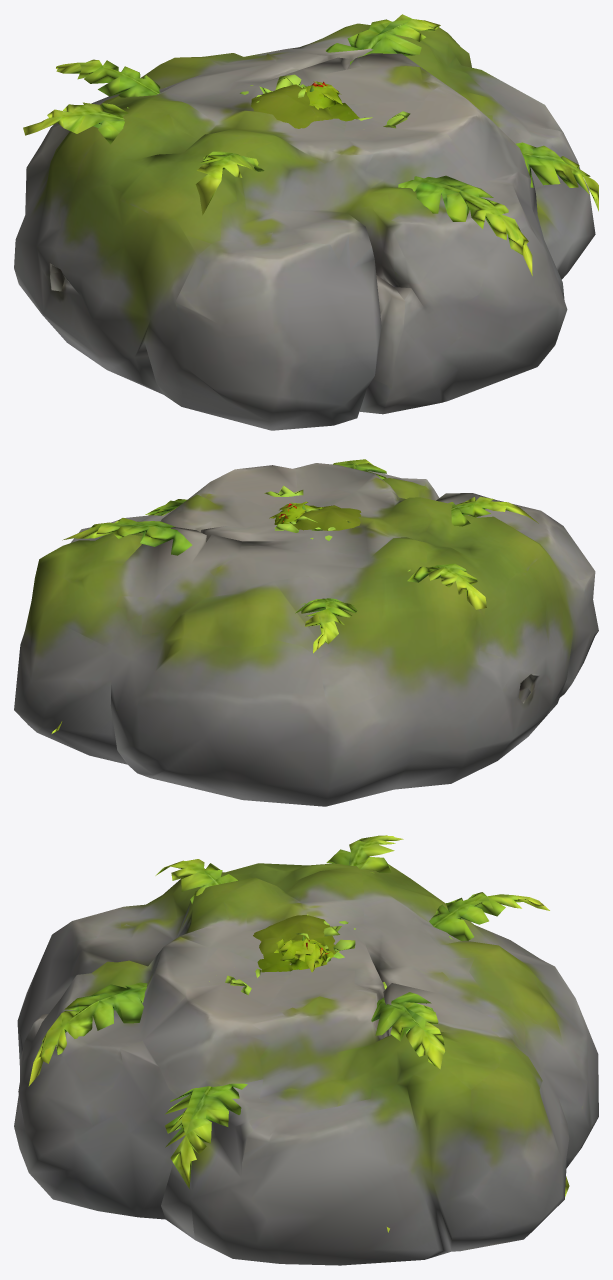
File: toon-scenery.glb
3 views of the same model, one above another, from view 1: azimuth 30°, elevation 25°; view 2: azimuth 150°, elevation 25°; view 3: azimuth 270°, elevation 25° (orthographic). The views are drawn at different scales.
Visible parts, largest first — view 1: rock_lod0, fern_lod0, boulder_lod0, bush_lod0, maple_lod0; view 2: rock_lod0, fern_lod0, boulder_lod0, bush_lod0, maple_lod0; view 3: rock_lod0, fern_lod0, boulder_lod0, maple_lod0, bush_lod0.
Part boxes in pixels (x1,y1,x2,y2): rock_lod0: (14, 23, 595, 430); fern_lod0: (23, 14, 598, 275); boulder_lod0: (251, 84, 359, 128); bush_lod0: (240, 74, 410, 128); maple_lod0: (304, 81, 342, 110); rock_lod0: (14, 463, 598, 806); fern_lod0: (51, 459, 538, 733); boulder_lod0: (293, 505, 361, 530); bush_lod0: (264, 486, 350, 540); maple_lod0: (269, 501, 323, 524); rock_lod0: (14, 863, 598, 1265); fern_lod0: (28, 835, 569, 1232); boulder_lod0: (253, 915, 337, 972); maple_lod0: (274, 938, 339, 972); bush_lod0: (209, 914, 386, 995).
Size of what is drawn, in the model's own units: 2.34 by 1 by 2.35.
7 materials, 7 textured.
